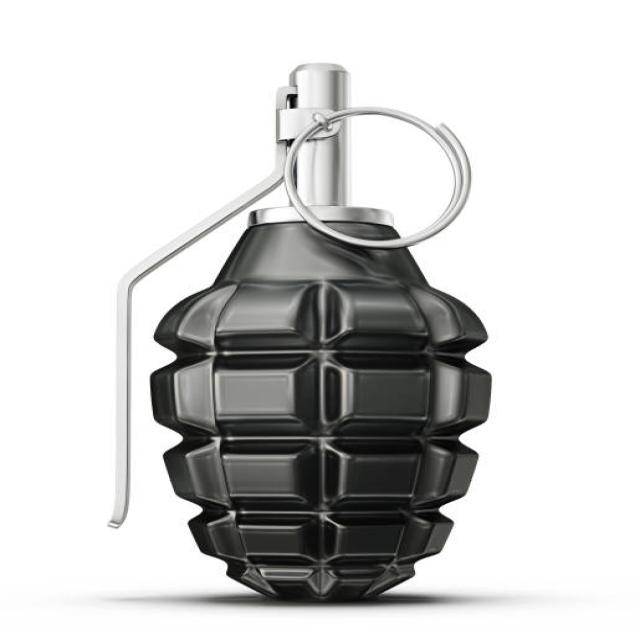grenade: (100, 53, 504, 614)
